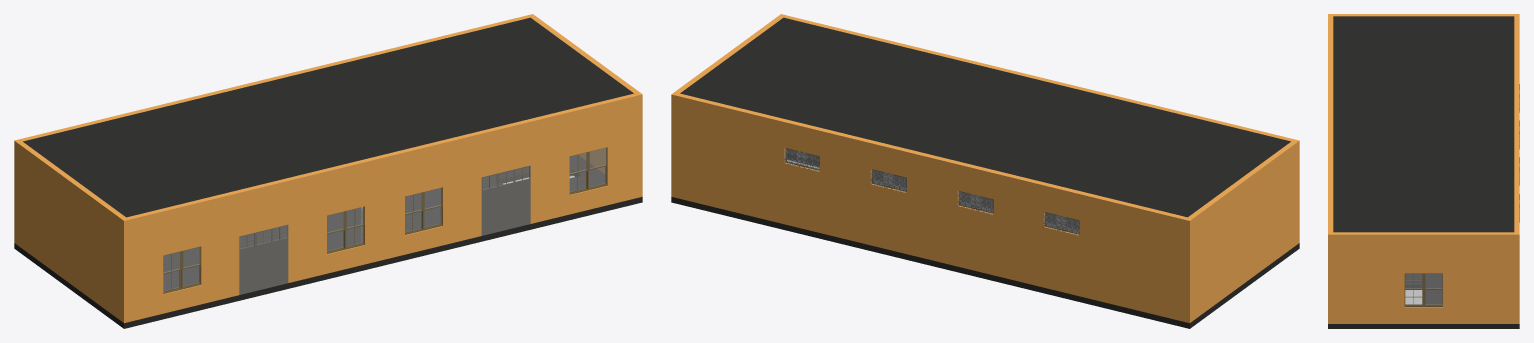
The model's file is extra_Building.fbx.
3 renders of one model, left to right at view 1: azimuth 30°, elevation 25°; view 2: azimuth 150°, elevation 25°; view 3: azimuth 270°, elevation 25°, orthographic. The views are drawn at different scales.
Visible parts, largest first — view 1: Object_416, Object_445, Object_448, Object_419, Object_374, Object_378, Object_451, Object_442, Object_427, Object_435, Object_439, Object_430; view 2: Object_451, Object_416, Object_448, Object_419, Object_445, Object_442, Object_120, Object_195, Object_294, Object_360; view 3: Object_416, Object_442, Object_451, Object_419, Object_423, Object_445, Object_448.
Boxes of the visible parts, x1,y1,x2,y2 form: Object_416: (23,17,633,217); Object_445: (126,93,637,321); Object_448: (17,141,129,323); Object_419: (14,155,642,328); Object_374: (481,165,530,235); Object_378: (239,224,288,294); Object_451: (14,14,535,244); Object_442: (531,16,642,197); Object_427: (569,147,606,194); Object_435: (327,206,364,253); Object_439: (163,246,200,293); Object_430: (405,187,442,234); Object_451: (671,92,1192,323); Object_416: (680,17,1290,217); Object_448: (1188,139,1299,320); Object_419: (671,149,1299,328); Object_445: (784,15,1293,141); Object_442: (675,14,786,93); Object_120: (1043,211,1079,235); Object_195: (957,191,993,214); Object_294: (870,169,906,192); Object_360: (784,147,819,171); Object_416: (1333,16,1514,232); Object_442: (1328,232,1514,323); Object_451: (1514,14,1519,323); Object_419: (1328,273,1519,328); Object_423: (1404,273,1442,306); Object_445: (1328,16,1333,232); Object_448: (1328,14,1514,16).
Size of the model in its own units: 2839 by 565 by 1043.
